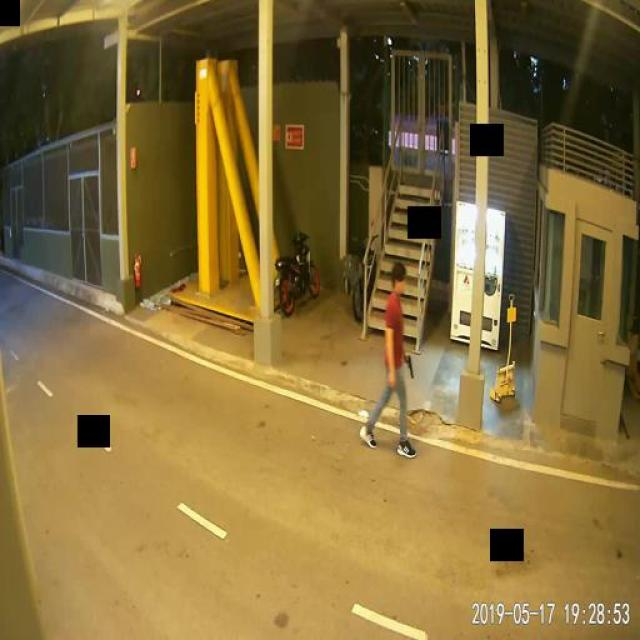gun: (402, 351, 412, 379)
